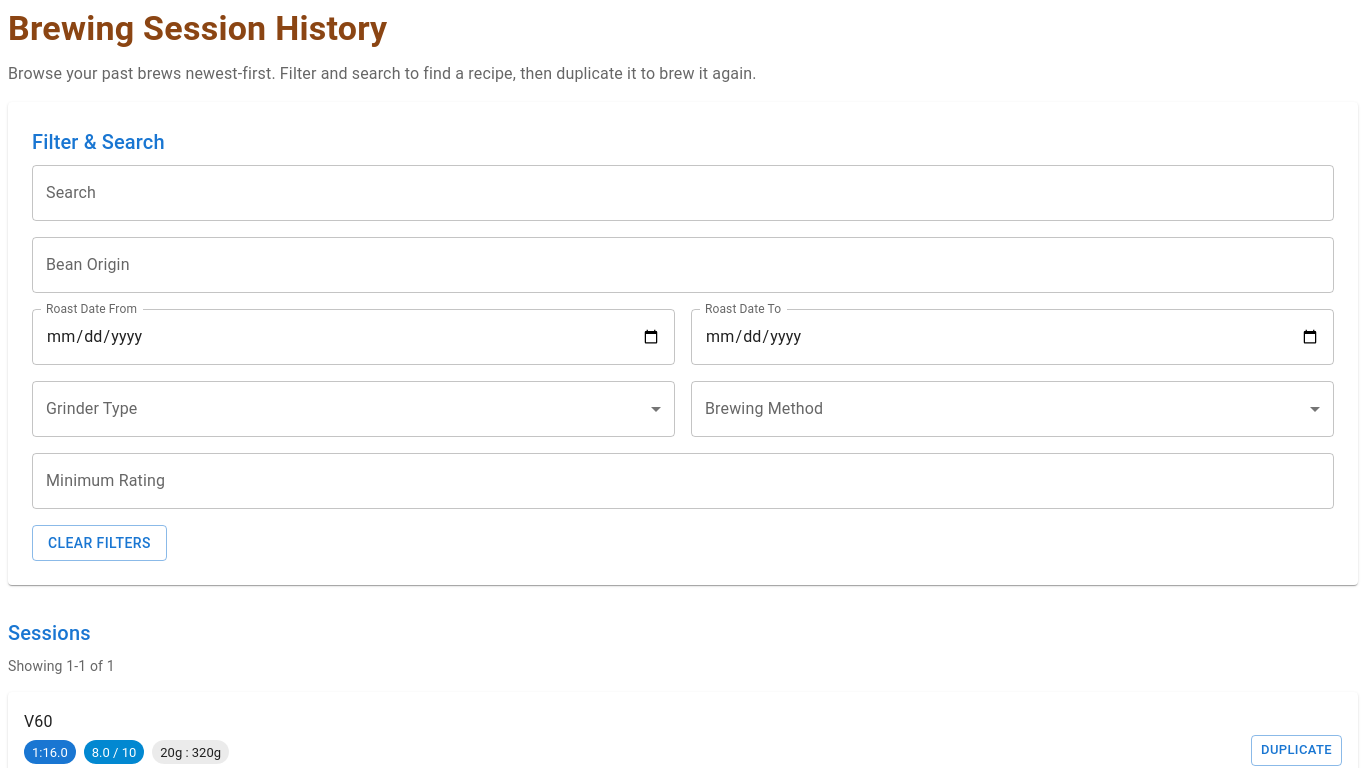
Test: SessionHistory › surfaces a duplicate error and does not show the notice
Check: the heading "V60" is shown, box [24, 712, 53, 731]
Click the button "Duplicate" at [1296, 750], box [1251, 735, 1342, 766]
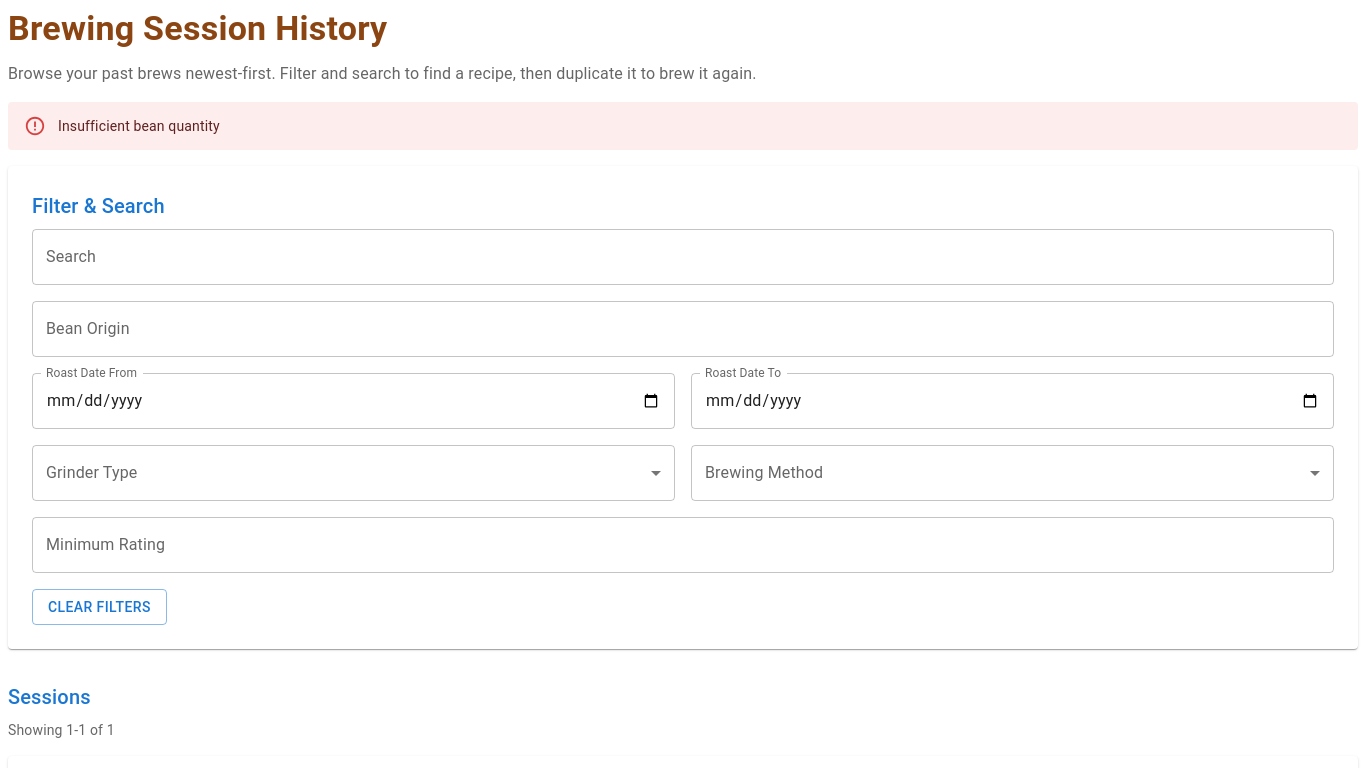
Check: the message reads "Insufficient bean quantity", box [58, 118, 220, 134]
